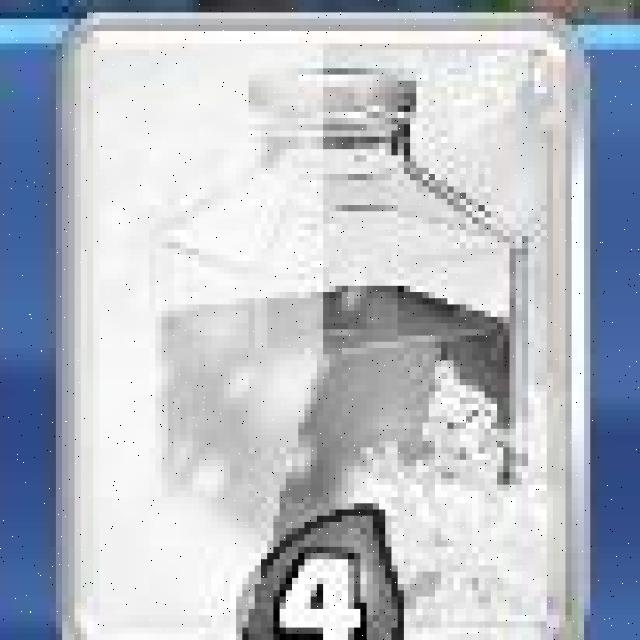Freeze: (52, 15, 590, 640)
